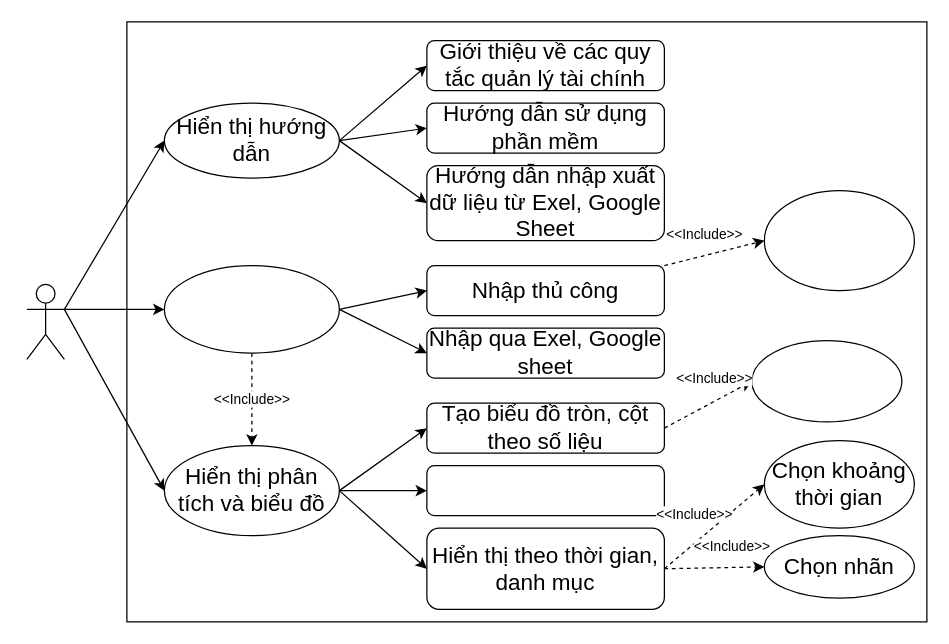
Image size: 949x644. Some labels were removed from this diagram. Each missing label, with the centre of its shape:
"Chỉnh sửa dữ liệu" goes at point 251,308.
"Chọn loại biểu đồ" goes at point 826,380.
"Gắn nhãn (tag) cho dữ liệu" goes at point 838,240.
"Hiển thị phân tích chi tiêu so với quy tắc" goes at point 545,490.
"Ủser" goes at point 45,321.
